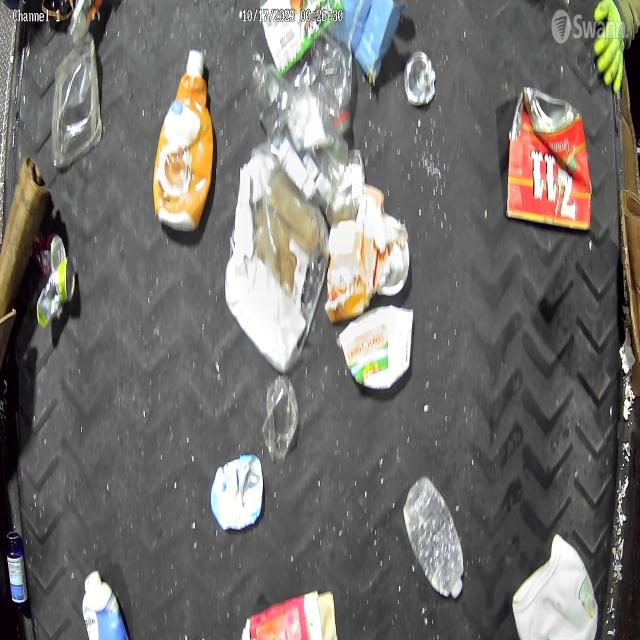can: (506, 86, 591, 230), (321, 149, 365, 227), (36, 256, 76, 330), (403, 48, 436, 106), (31, 229, 66, 277)
non_white_jug: (153, 48, 212, 232), (211, 453, 264, 530)
plastic_bottle: (252, 61, 348, 202), (404, 474, 468, 602), (310, 18, 352, 135)
